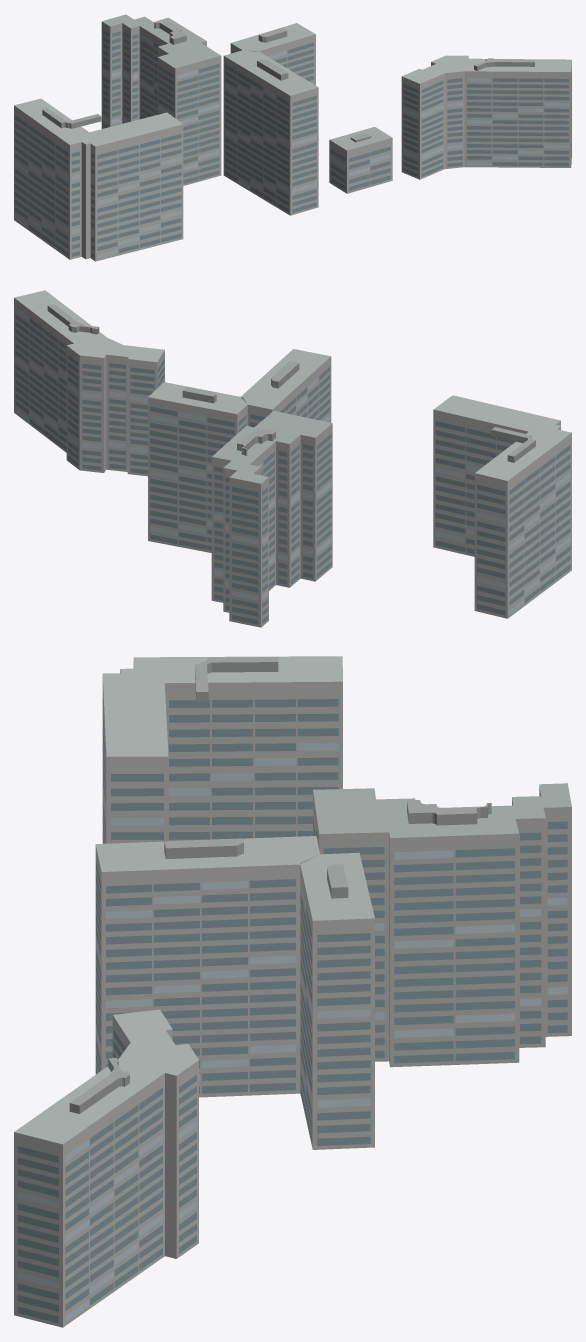
File: apt-a13881601.glb
3 views of the same model, one above another, from view 1: azimuth 30°, elevation 25°; view 2: azimuth 150°, elevation 25°; view 3: azimuth 270°, elevation 25° (orthographic). The views are drawn at different scales.
Parts seen in each view (by area): view 1: apt-a13881601; view 2: apt-a13881601; view 3: apt-a13881601.
Part boxes in pixels (x1=…): apt-a13881601: x1=14, y1=14, x2=571, y2=261; apt-a13881601: x1=14, y1=290, x2=571, y2=627; apt-a13881601: x1=14, y1=656, x2=571, y2=1327.
Bounding box in the file's own units: 202 × 50 × 105.
